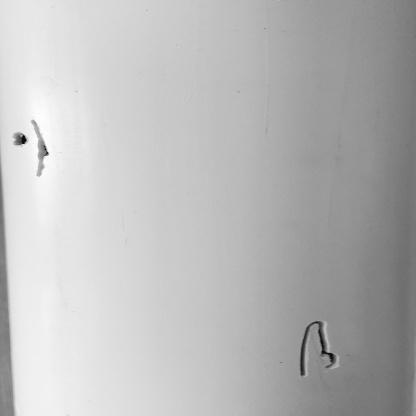fengxi: (300, 317, 347, 380), (24, 115, 61, 180)
kongdong: (7, 126, 32, 154)
